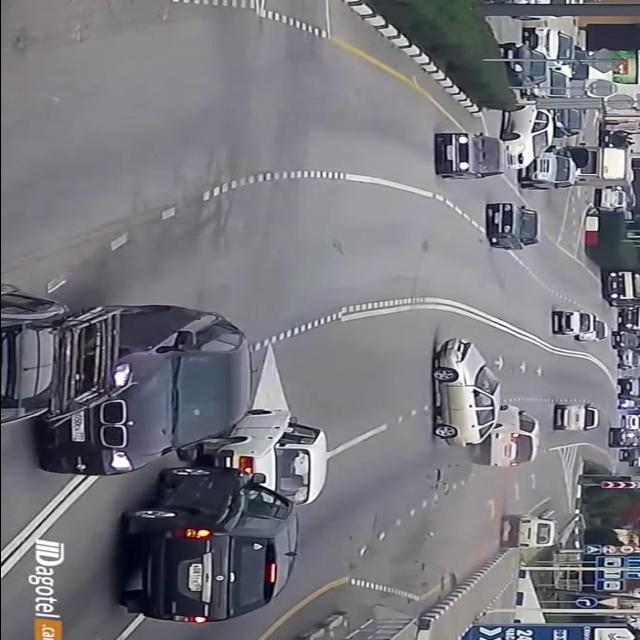accident: (417, 333, 546, 499)
non_accident: (0, 277, 261, 480), (104, 404, 332, 628), (426, 22, 638, 194), (543, 307, 613, 345)
